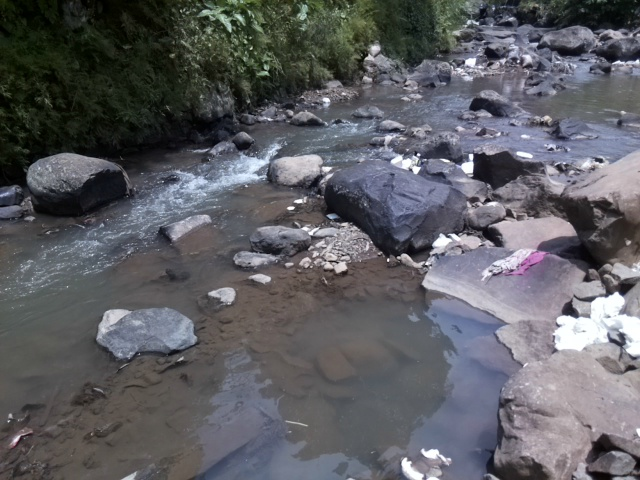Sampah_Plastik: (484, 245, 544, 278)
